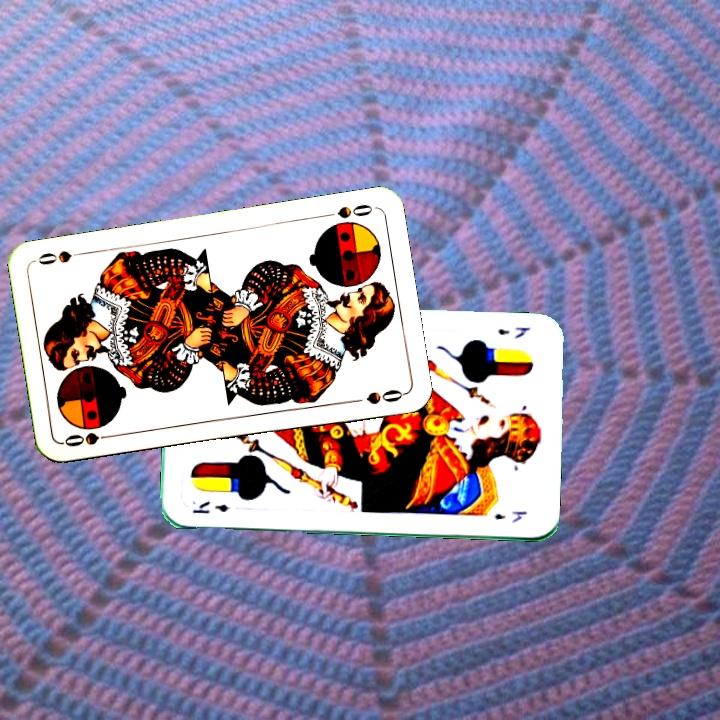EK: (188, 497, 231, 516), (494, 323, 533, 341)
SO: (60, 428, 119, 450), (318, 200, 376, 221)
